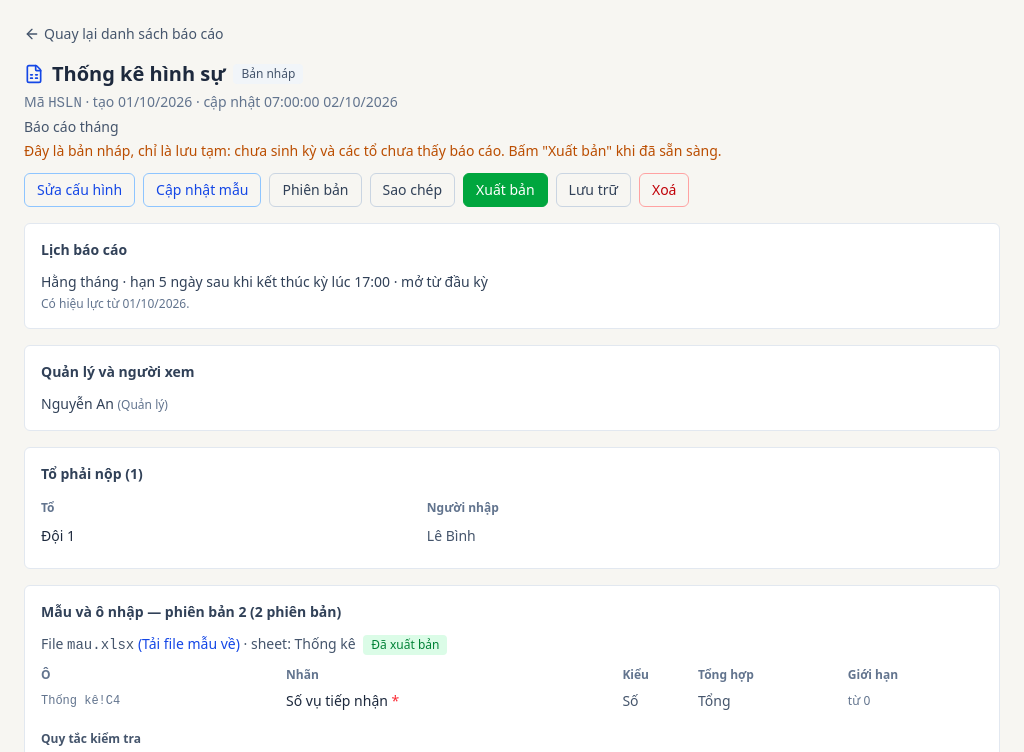
Test: ReportDetailPage › what the server says is missing is shown as it is (e.g. no manager), and the draft stays a draft
Step 1. Click the button with test id "btn-publish-draft" → {"x": 505, "y": 190}, box [463,173,548,207]
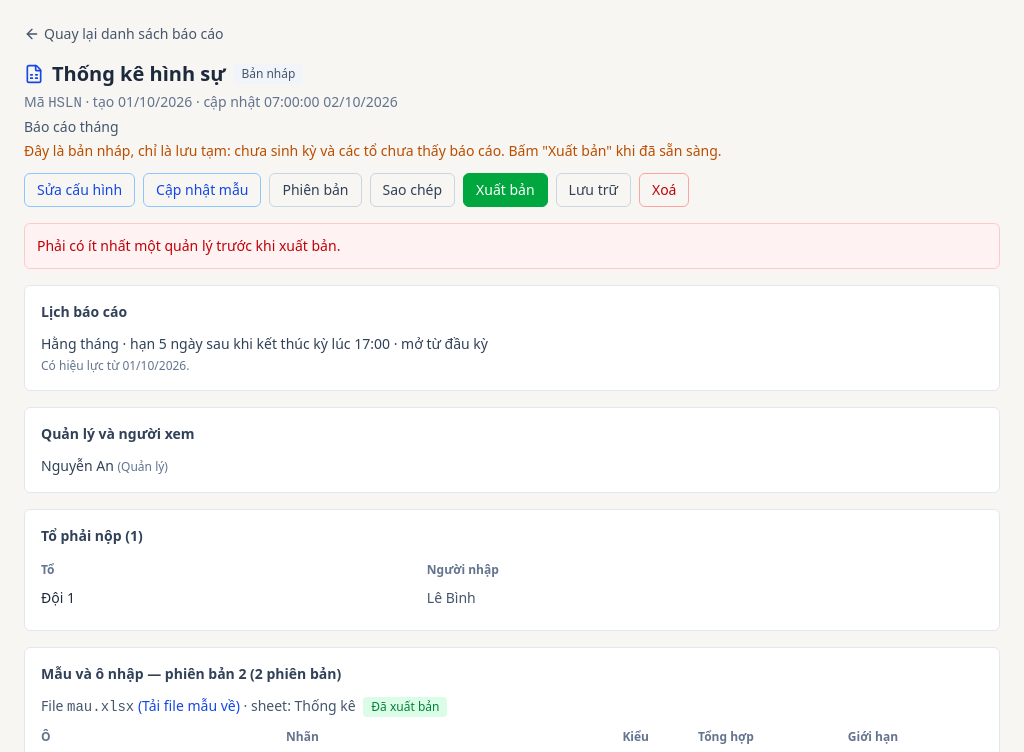
Now the text "Phải có ít nhất một quản lý trước khi xuất bản." is shown, box [24,223,1000,269]
